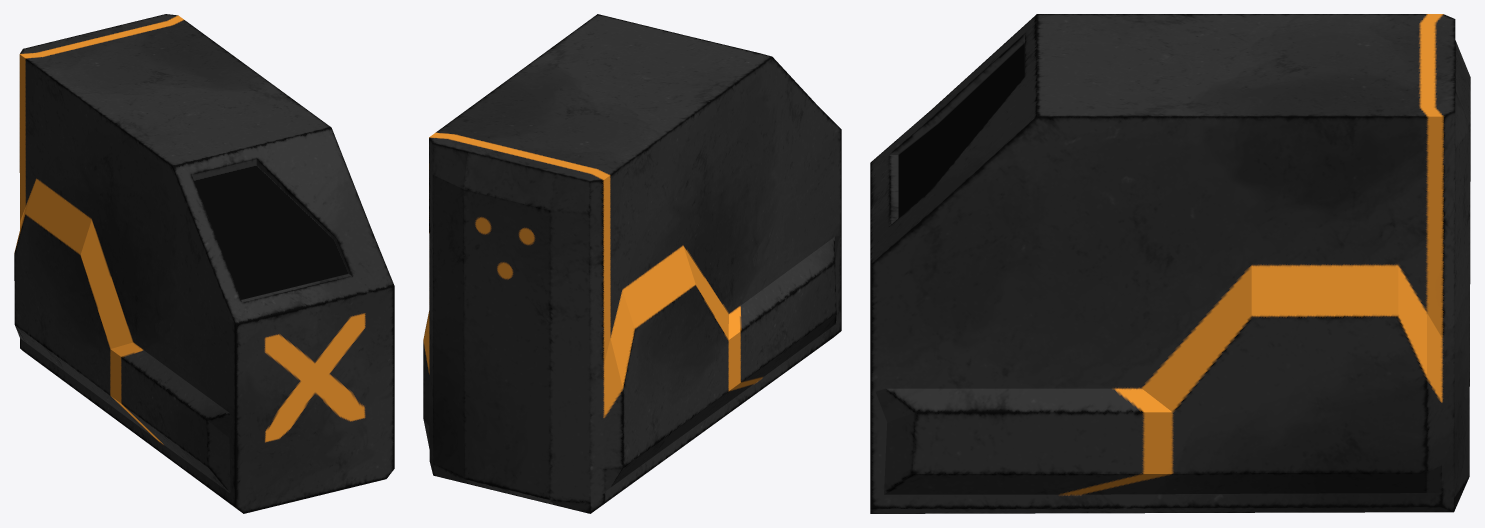
File: AmmoPack.fbx
3 renders of one model, left to right at view 1: azimuth 30°, elevation 25°; view 2: azimuth 150°, elevation 25°; view 3: azimuth 270°, elevation 25°, orthographic. The views are drawn at different scales.
Visible parts, largest first — view 1: AmmoPack; view 2: AmmoPack; view 3: AmmoPack.
Boxes of the visible parts, x1,y1,x2,y2 form: AmmoPack: (14, 14, 394, 513); AmmoPack: (423, 14, 841, 513); AmmoPack: (870, 14, 1470, 513).
Size of the model in its own units: 50.18 by 80.23 by 108.
